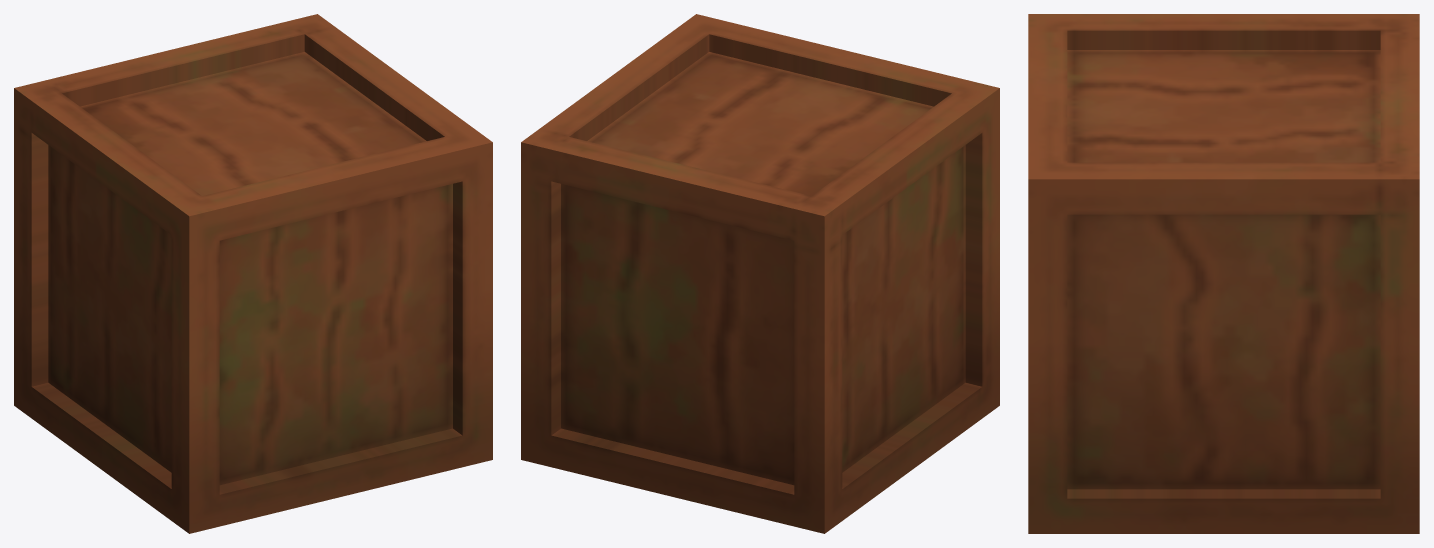
Rendered from Crate.glb.
3 renders of one model, left to right at view 1: azimuth 30°, elevation 25°; view 2: azimuth 150°, elevation 25°; view 3: azimuth 270°, elevation 25°, orthographic. The views are drawn at different scales.
Parts seen in each view (by area): view 1: LowPoly; view 2: LowPoly; view 3: LowPoly.
Boxes of the visible parts, x1,y1,x2,y2 form: LowPoly: (14,14,492,533); LowPoly: (521,14,999,533); LowPoly: (1028,14,1419,533).
Size of the model in its own units: 0.5 by 0.5 by 0.5.
Materials: 1 (1 with a texture image).
